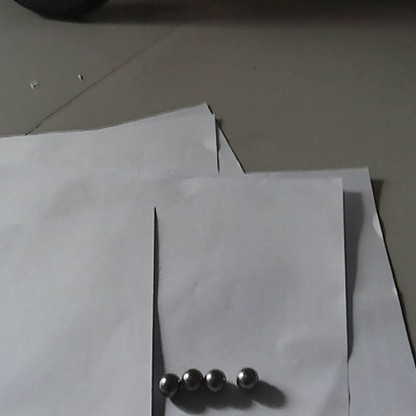ironball: (201, 363, 229, 394), (232, 364, 259, 394), (179, 365, 202, 393), (156, 370, 179, 397)
